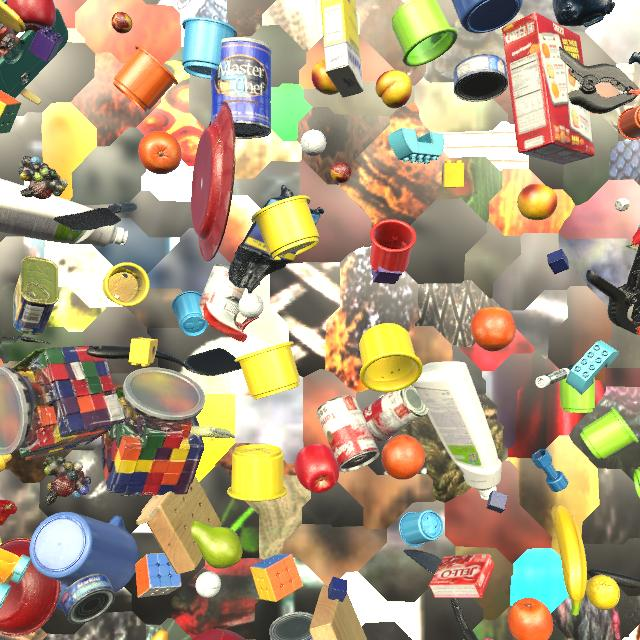ycb_002_master_chef_can: (211, 37, 272, 139)
ycb_003_cracker_box: (502, 12, 595, 165)
ycb_004_sugar_box: (320, 0, 363, 98)
ycb_005_tomato_soup_can: (317, 395, 380, 472), (362, 385, 429, 442), (198, 264, 245, 326)
ycb_006_mustard_bottle: (0, 454, 12, 472)
ycb_007_tuna_fish_can: (60, 573, 115, 624), (453, 54, 508, 102), (269, 612, 313, 640)
ycb_009_gelatin_box: (428, 554, 495, 598)
ycb_010_potted_meat_can: (13, 256, 59, 335)
ycb_011_banana: (551, 504, 587, 616), (151, 629, 168, 640)
ycb_013_apple: (295, 444, 339, 493), (7, 0, 56, 33)
ycb_014_lemon: (586, 575, 620, 610)
ycb_015_peach: (517, 184, 558, 220), (376, 70, 412, 109), (311, 58, 339, 95)
ycb_016_pear: (191, 521, 243, 569)
ycb_017_orange: (470, 307, 516, 351), (381, 434, 425, 480), (138, 131, 182, 174), (508, 598, 553, 640)
